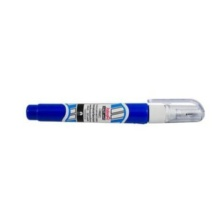correction_fluid: (22, 95, 206, 127)
